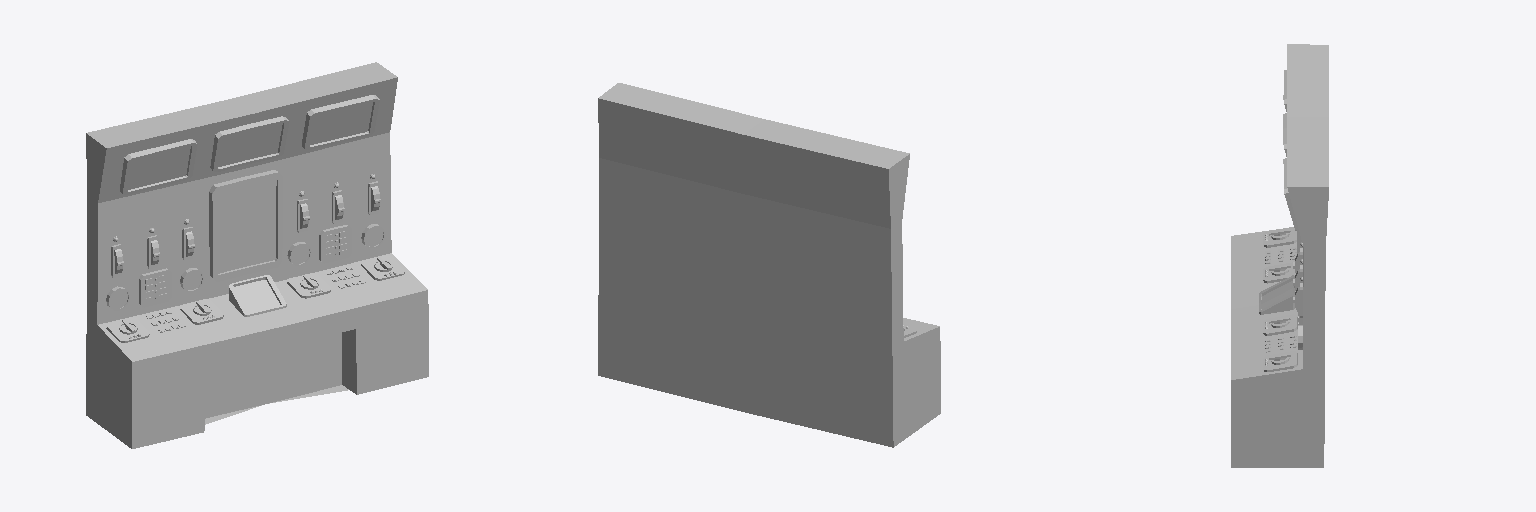
File: Control_desk_01.obj
3 views of the same model, side by side, from view 1: azimuth 30°, elevation 25°; view 2: azimuth 150°, elevation 25°; view 3: azimuth 270°, elevation 25° (orthographic).
Parts seen in each view (by area): view 1: boutons; view 2: boutons; view 3: boutons.
Boxes of the visible parts, <box> form: boutons: <box>86,62,428,448</box>; boutons: <box>598,83,940,447</box>; boutons: <box>1231,44,1328,467</box>.
Size of the model in its own units: 2.33 by 2.11 by 0.6704.